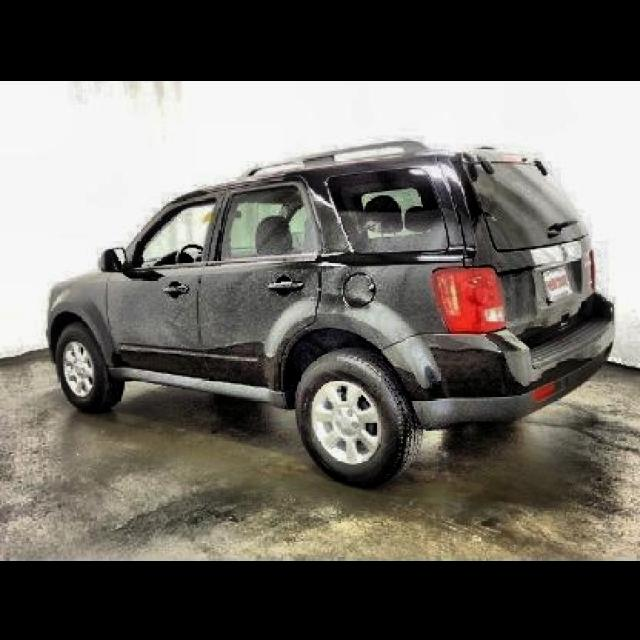black: (47, 140, 616, 490)
